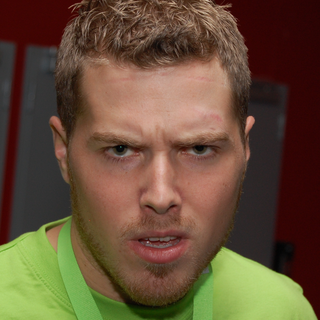eye: (96, 139, 145, 163), (174, 139, 223, 163)
